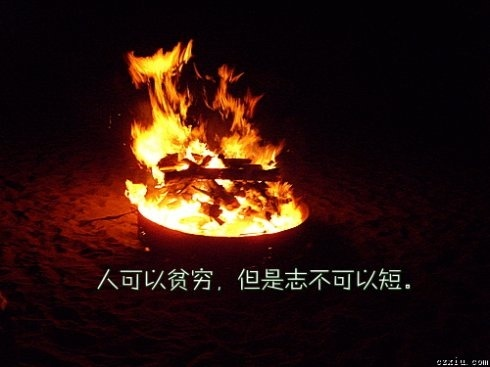fire: (123, 36, 300, 237)
